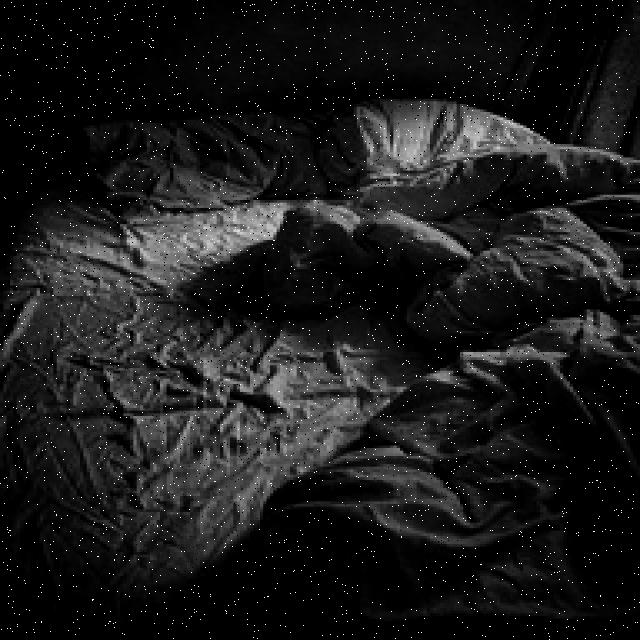bed: (3, 53, 640, 640)
